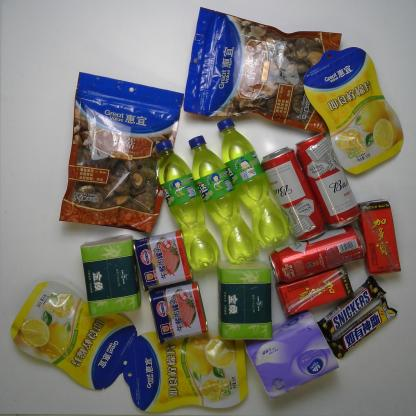Alcohol: (294, 131, 362, 230), (261, 146, 327, 244), (268, 224, 368, 284)
Canned Food: (147, 279, 210, 347), (131, 229, 194, 293)
Chocolate: (316, 274, 388, 342), (326, 296, 398, 360)
Dried Food: (58, 71, 186, 234), (183, 6, 344, 135)
Dried Fruit: (9, 280, 138, 391), (302, 46, 404, 176), (122, 330, 250, 414)
Drink: (216, 117, 290, 251), (187, 134, 261, 266), (155, 139, 222, 274), (274, 264, 355, 318), (357, 197, 403, 277)
Tissue: (243, 307, 340, 401), (78, 233, 142, 320), (216, 259, 273, 342)
